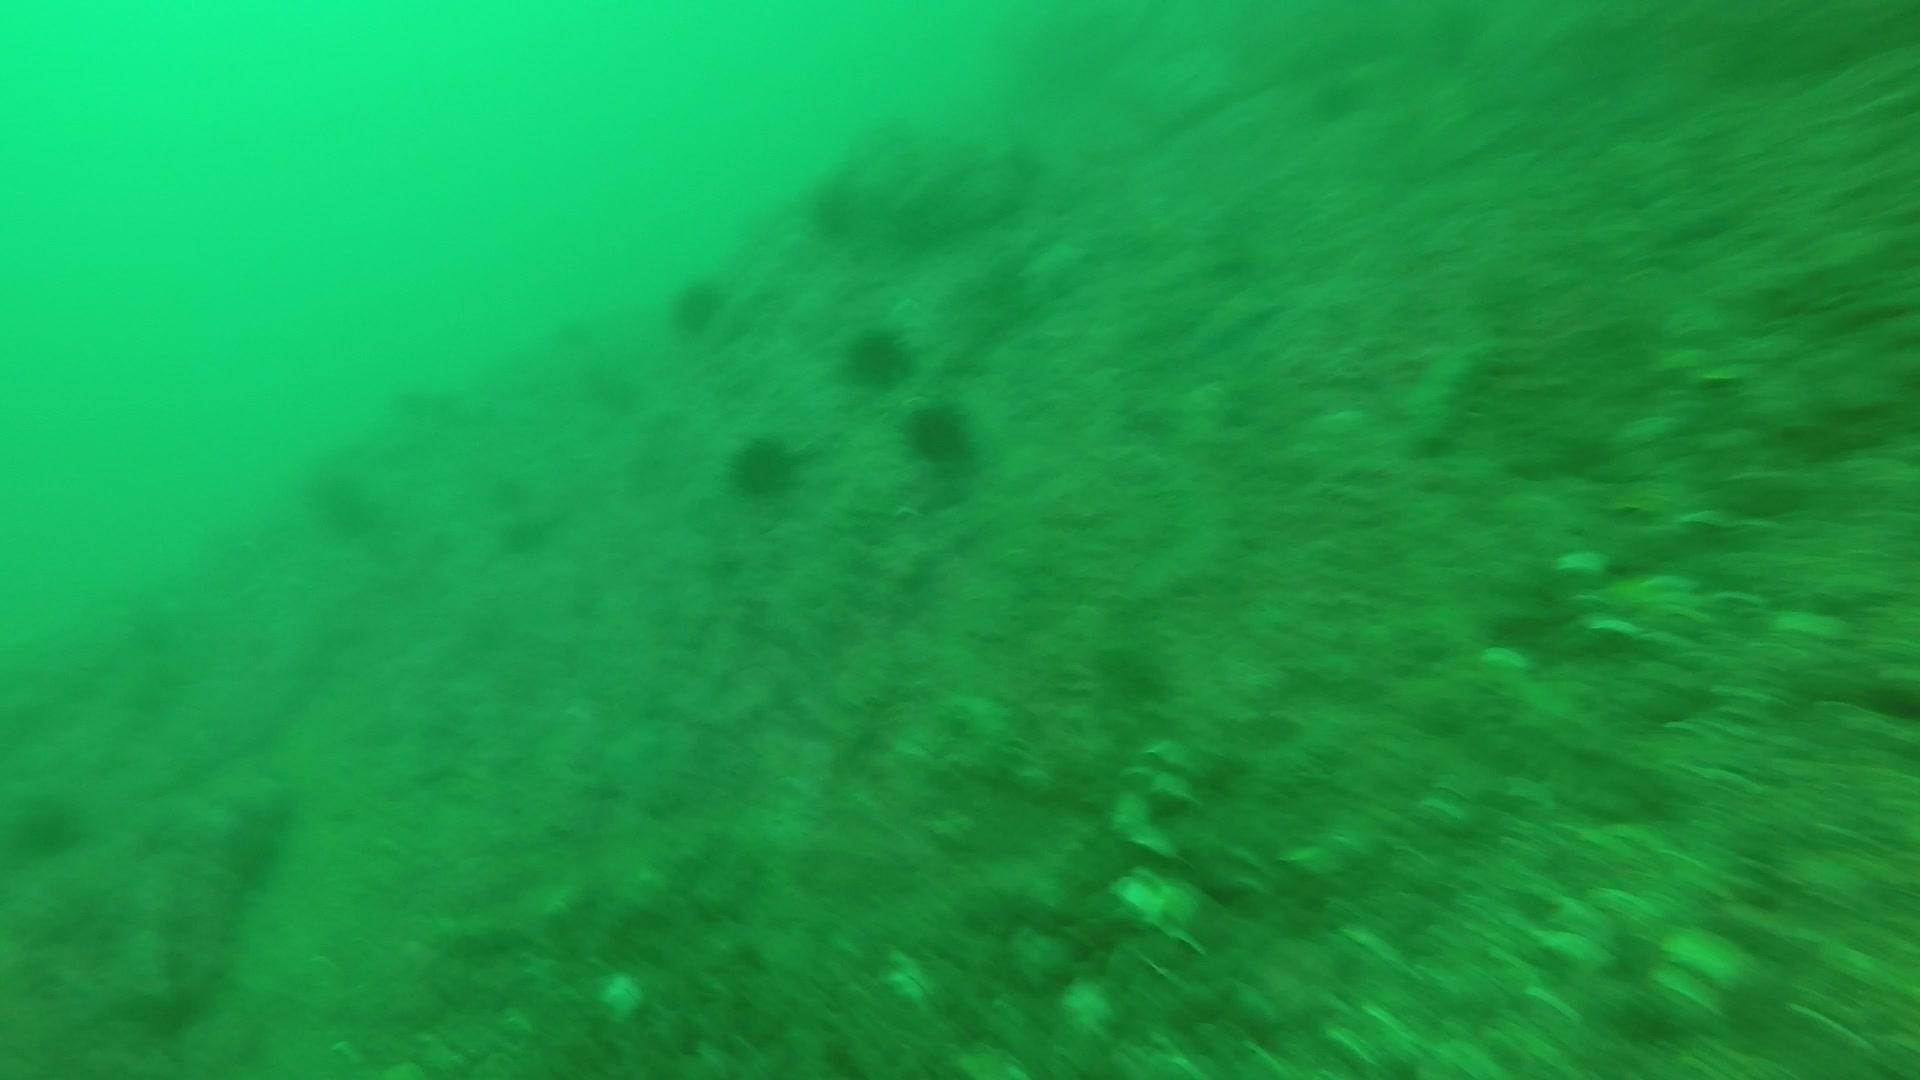echinus: (5, 785, 88, 866), (898, 393, 982, 473), (721, 427, 808, 504), (833, 316, 918, 393), (800, 166, 868, 245), (663, 269, 732, 339), (291, 458, 359, 516), (320, 484, 386, 541)
